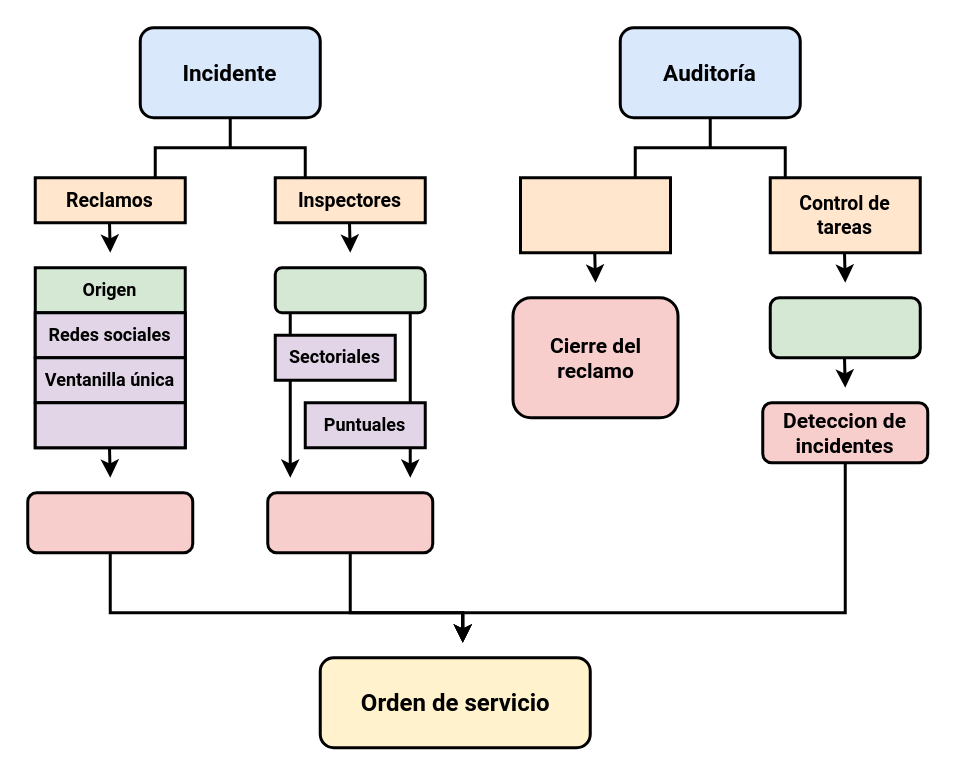
Some shapes in this 954 by 774 pixel diagram are drawn without their labels. The centre of each missing label's shape, as x and y in pixels:
Call center: (x=109, y=424)
Canal de Whatsapp: (x=350, y=522)
Cumplimiento de la orden: (x=594, y=215)
Labor preventiva: (x=844, y=327)
Muni digital: (x=110, y=522)
Reportes: (x=349, y=290)
